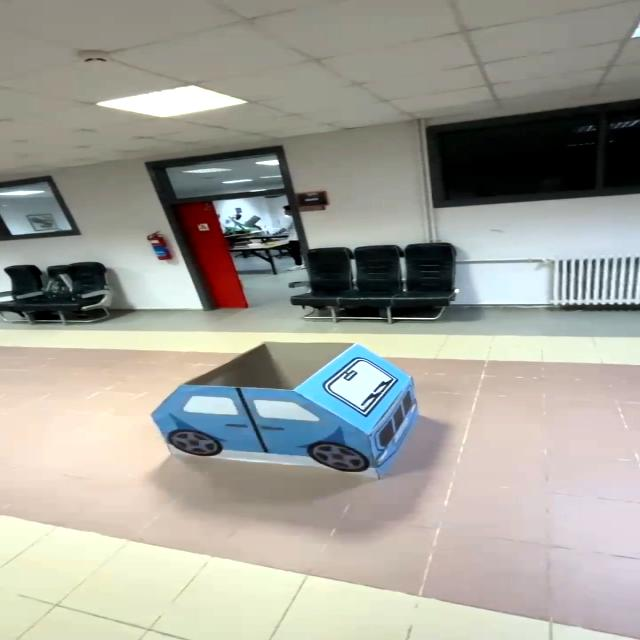blue_car: (100, 318, 466, 494)
